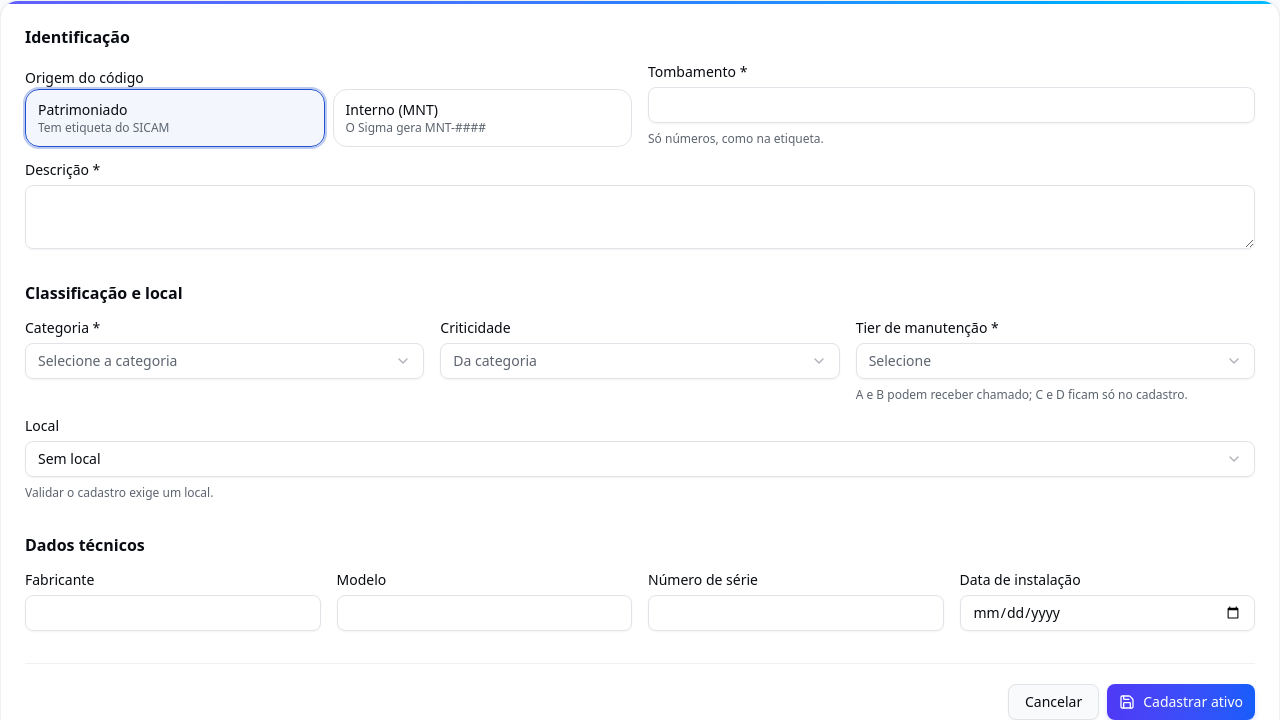
Scenario: FormAtivo · cadastro › patrimoniado mostra o tombamento; interno esconde
Expected: the field labelled "Tombamento *" is shown, [648,87,1255,123]
Click the radio button labelled "Interno (MNT) O Sigma gera MNT-####": (482,118) [332,89,632,147]
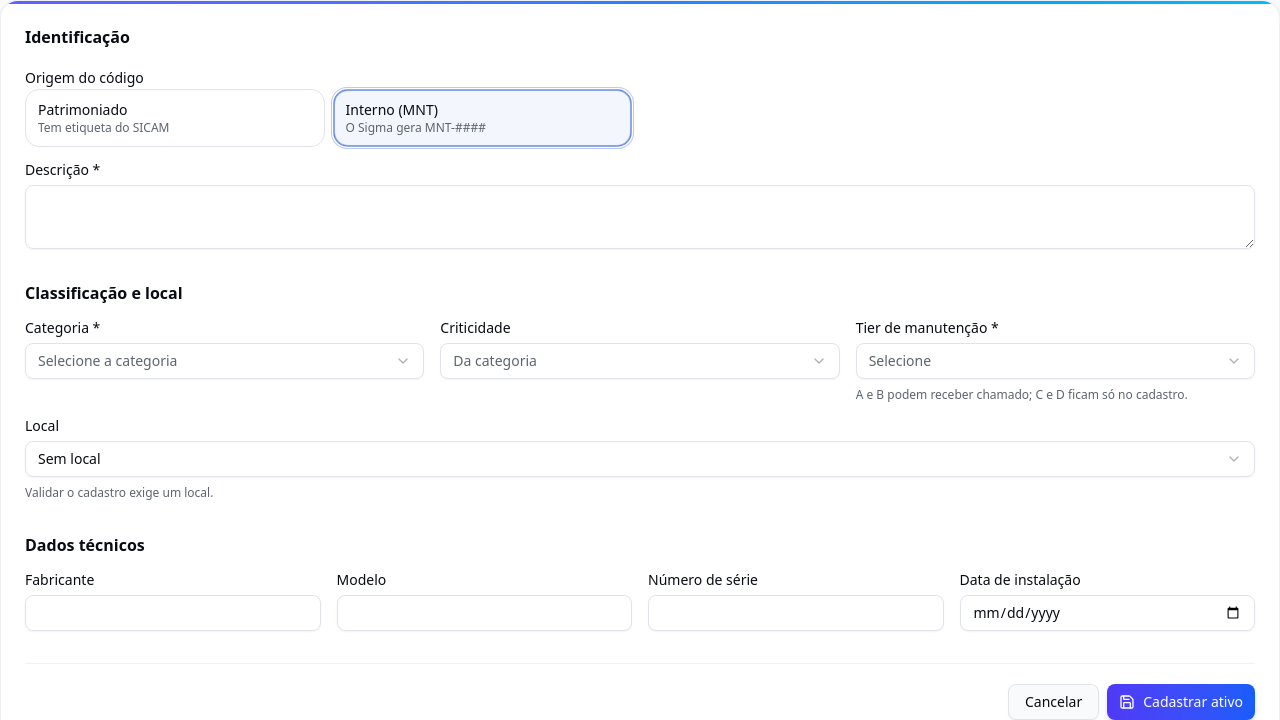
Result: the label labelled "Tombamento" is gone
